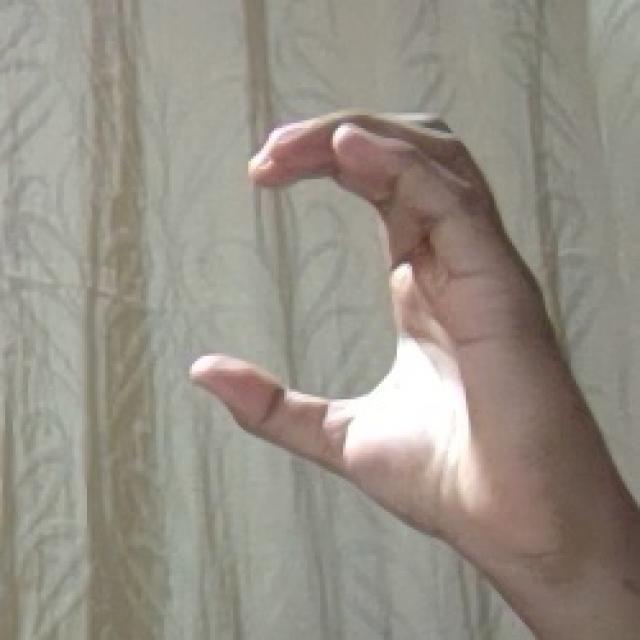Alphabet-C: (192, 113, 640, 640)
